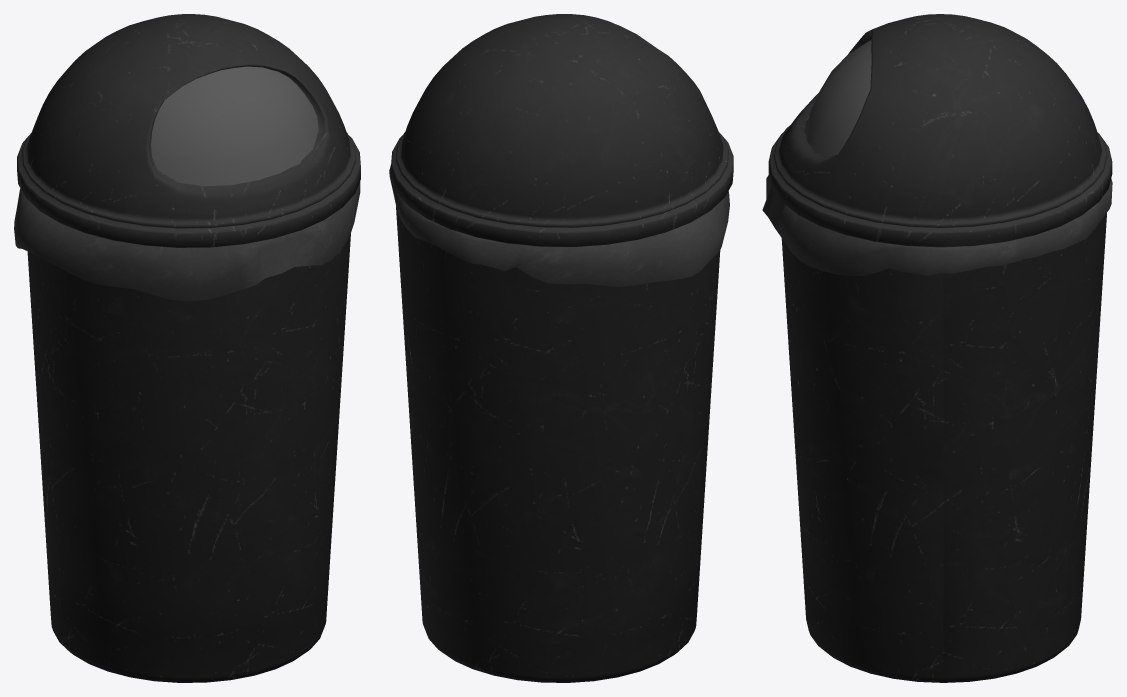
The model's file is SM_Big_bin_embedded.fbx.
3 views of the same model, side by side, from view 1: azimuth 30°, elevation 25°; view 2: azimuth 150°, elevation 25°; view 3: azimuth 270°, elevation 25° (orthographic).
Parts seen in each view (by area): view 1: SM_Big_bin, SM_bin_lid.001, Cube, Sphere; view 2: SM_Big_bin, SM_bin_lid.001, Cube; view 3: SM_Big_bin, SM_bin_lid.001, Cube, Sphere.
Part boxes in pixels (x1,y1,x2,y2): SM_Big_bin: (27, 233, 350, 682); SM_bin_lid.001: (17, 14, 360, 247); Cube: (14, 181, 360, 301); Sphere: (151, 66, 318, 186); SM_Big_bin: (396, 206, 720, 682); SM_bin_lid.001: (391, 14, 733, 246); Cube: (389, 165, 729, 286); SM_Big_bin: (781, 213, 1106, 682); SM_bin_lid.001: (768, 14, 1112, 247); Cube: (762, 175, 1112, 276); Sphere: (804, 40, 871, 157).
Size of the model in its own units: 60.38 by 112 by 59.07.
Materials: 1 (1 with a texture image).
